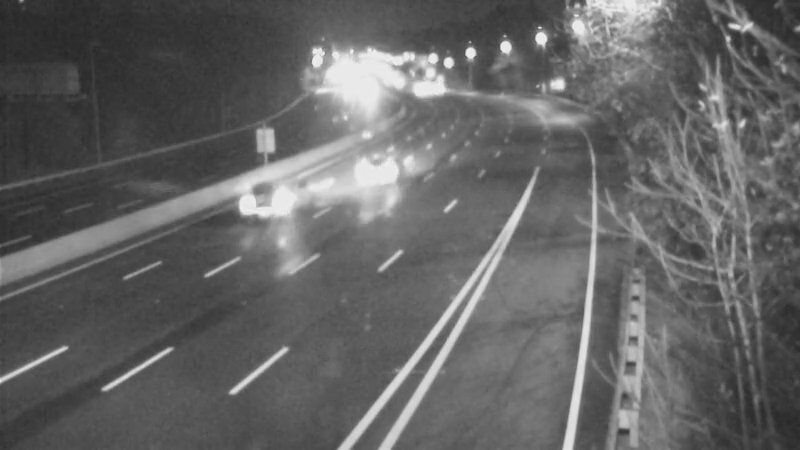vehicle: (336, 127, 416, 207), (230, 149, 310, 229)
